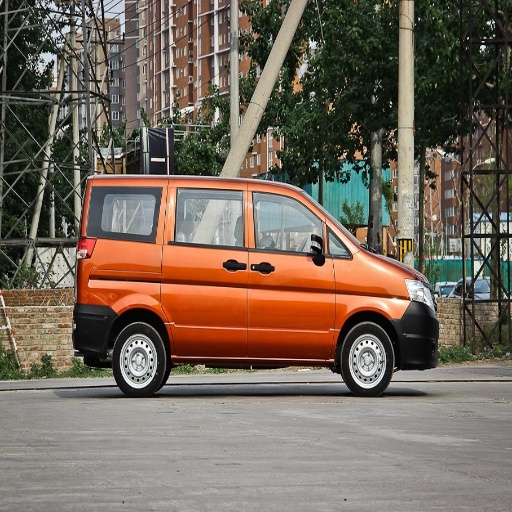back_right_door: (169, 185, 249, 352)
front_right_door: (248, 185, 351, 356)
trunk: (86, 196, 167, 349)
